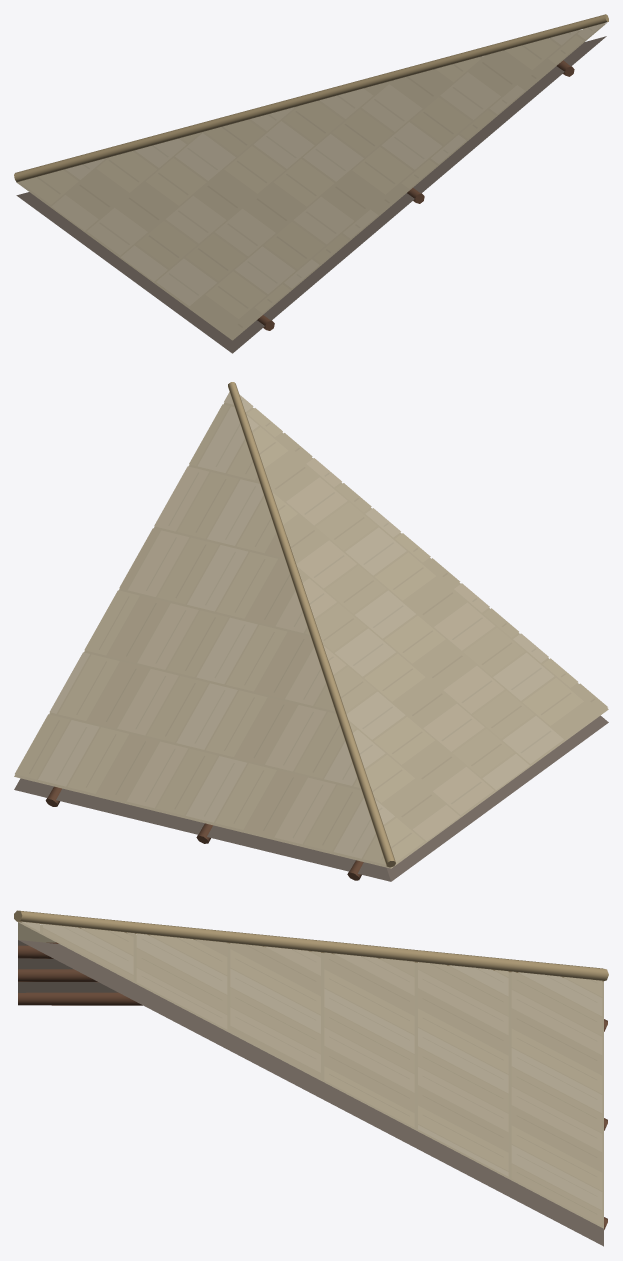
File: Roof_Hip_30.glb
3 renders of one model, top to bottom at view 1: azimuth 30°, elevation 25°; view 2: azimuth 150°, elevation 25°; view 3: azimuth 270°, elevation 25°, orthographic. The views are drawn at different scales.
Parts seen in each view (by area): view 1: _MeshInstance3D_3539, _MeshInstance3D_3546; view 2: _MeshInstance3D_3539, _MeshInstance3D_3546; view 3: _MeshInstance3D_3539, _MeshInstance3D_3546, _MeshInstance3D_3541, _MeshInstance3D_3543.
Part boxes in pixels (left/top/right/bottom): _MeshInstance3D_3539: left=16, top=23, right=606, bottom=353; _MeshInstance3D_3546: left=14, top=14, right=608, bottom=182; _MeshInstance3D_3539: left=14, top=392, right=608, bottom=881; _MeshInstance3D_3546: left=228, top=382, right=395, bottom=867; _MeshInstance3D_3539: left=18, top=921, right=603, bottom=1246; _MeshInstance3D_3546: left=14, top=910, right=608, bottom=981; _MeshInstance3D_3541: left=18, top=992, right=142, bottom=1005; _MeshInstance3D_3543: left=18, top=969, right=98, bottom=982.
Bounding box in the file's own units: 3.05 × 1.96 × 3.05.
